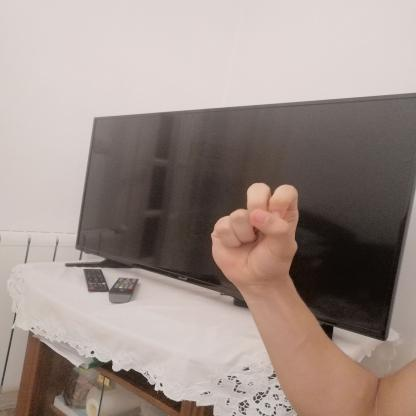QAAF: (196, 174, 315, 296)
